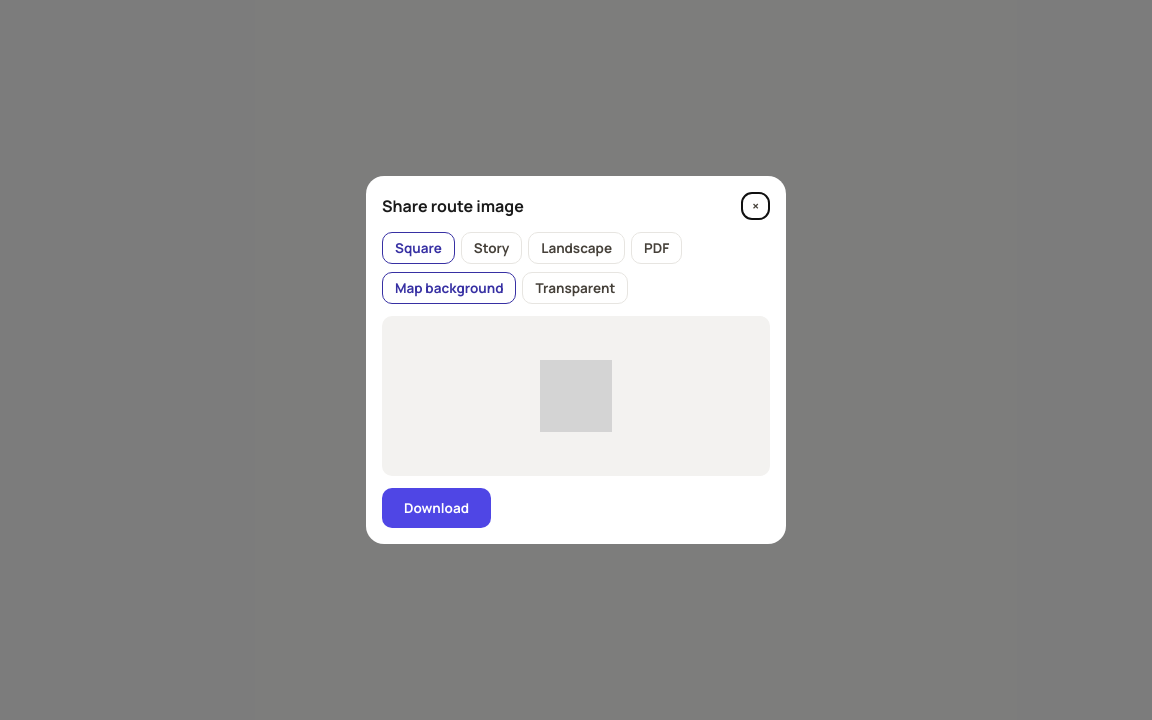
Test case: ShareImageModal › labels the modal by mode
Expected: the button "Download" is enabled, 382,488 -> 491,528
Click the button "PDF" at (657, 248), box 631,232 -> 682,264
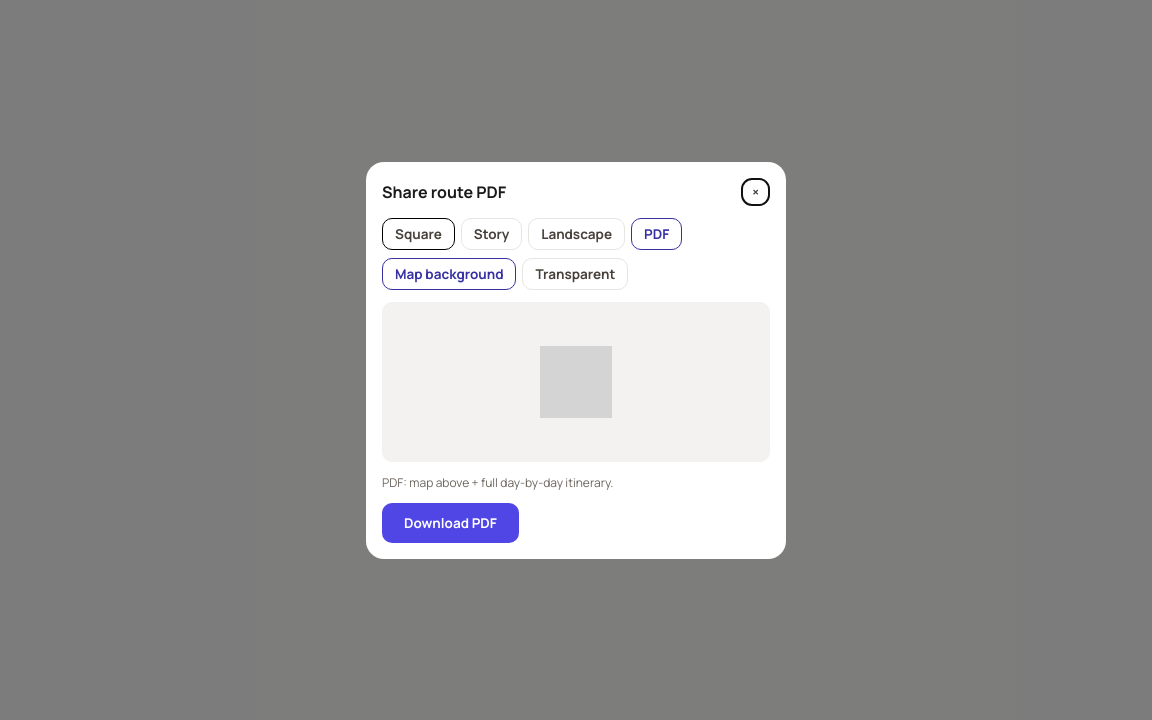
Now the dialog "Share route PDF" is shown
